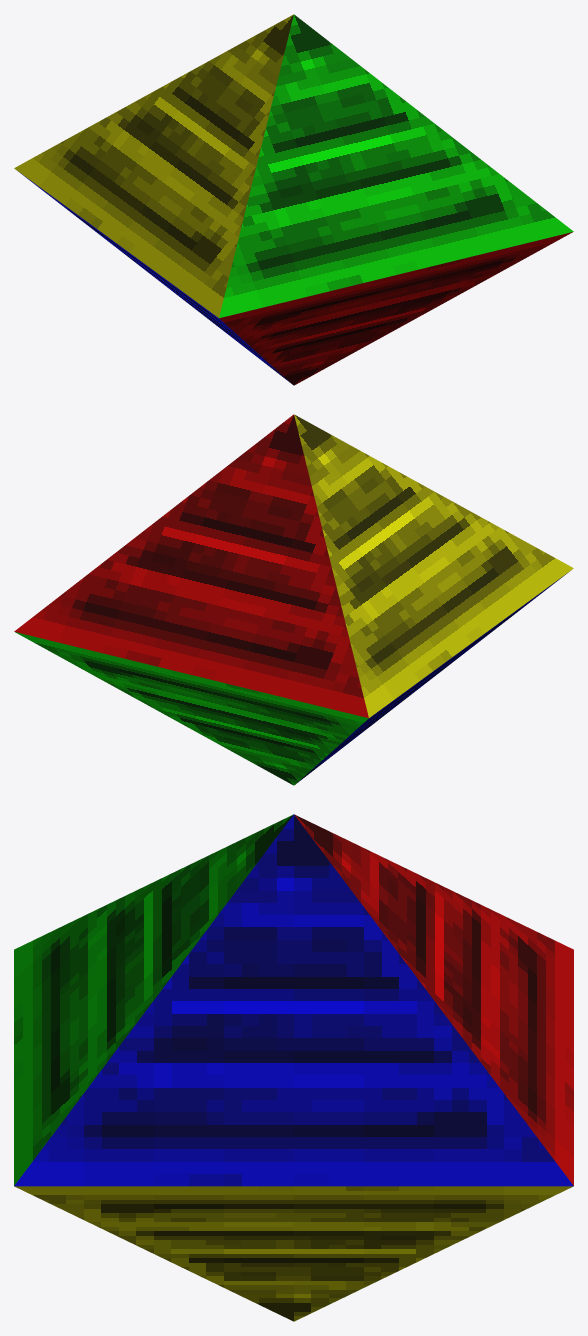
The picture shows the model from 3 angles, top to bottom: view 1: azimuth 30°, elevation 25°; view 2: azimuth 150°, elevation 25°; view 3: azimuth 270°, elevation 25°; orthographic projection. The views are drawn at different scales.
Parts seen in each view (by area): view 1: wc_obj03; view 2: wc_obj03; view 3: wc_obj03.
Boxes of the visible parts, left/top/right/bottom form: wc_obj03: left=14, top=14, right=573, bottom=385; wc_obj03: left=14, top=414, right=573, bottom=785; wc_obj03: left=14, top=814, right=573, bottom=1321.
Bounding box in the file's own units: 12.5 × 12.5 × 12.5.
Materials: 1 (1 with a texture image).
